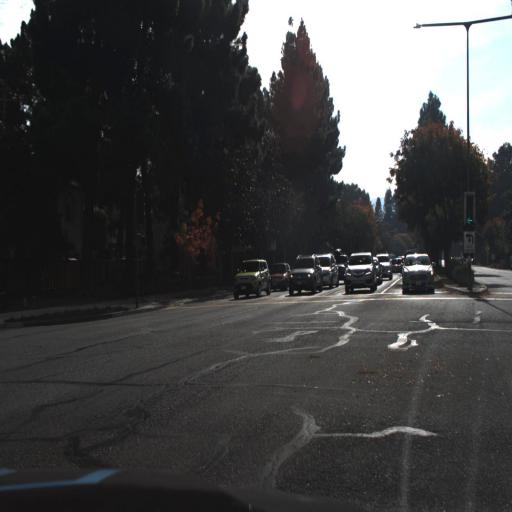car: (231, 258, 272, 301), (286, 254, 325, 296), (342, 249, 375, 293), (402, 251, 434, 294), (320, 252, 340, 288), (271, 261, 290, 292), (378, 251, 392, 280)
trafficLight-GreenLeft: (464, 192, 475, 231)
